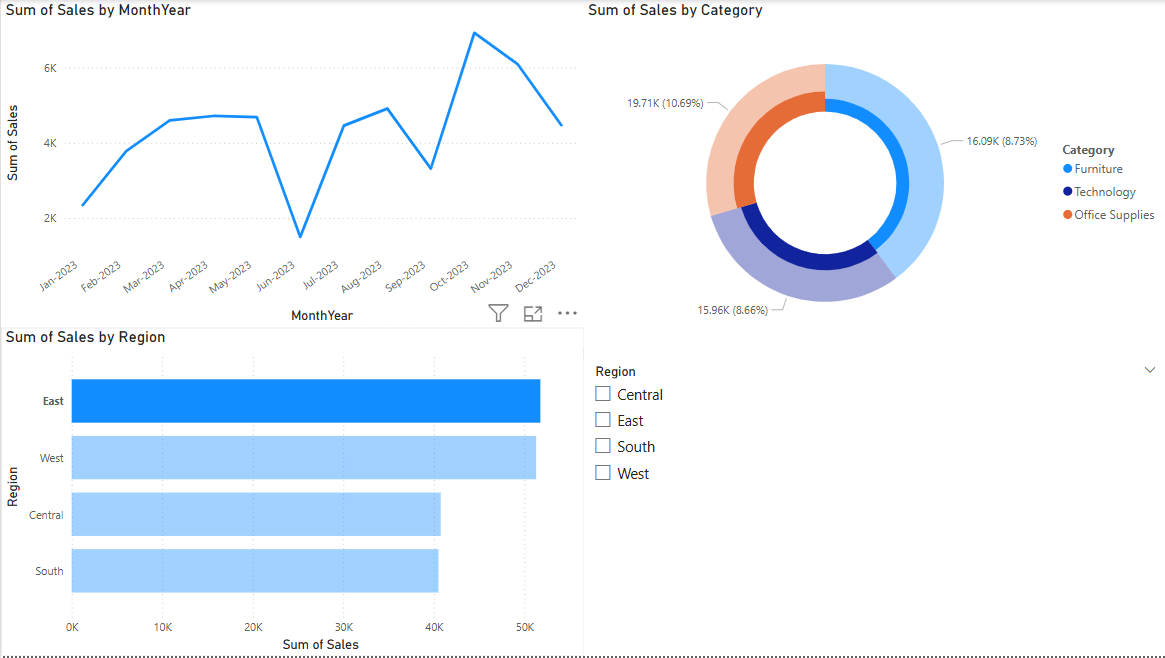

What the dashboard file says about the page in this screenshot:
{"tool":"powerbi","page":{"name":"Page 1","canvas":[1280,720],"ordinal":0},"visuals":[{"type":"lineChart","fields":{"Category":["Superstore_Sales.MonthYear"],"Y":["Sum(Superstore_Sales.Sales)"]},"box":[0,0,639.5,359.5],"z":0},{"type":"clusteredBarChart","fields":{"Category":["Superstore_Sales.Region"],"Y":["Sum(Superstore_Sales.Sales)"]},"box":[0,359.5,639.5,360.9],"z":1000},{"type":"donutChart","fields":{"Category":["Superstore_Sales.Category"],"Y":["Sum(Superstore_Sales.Sales)"]},"box":[639.5,0,640.8,382.8],"z":2000},{"type":"slicer","fields":{"Values":["Superstore_Sales.Region"]},"box":[639.5,393.8,640.8,326.6],"z":2001}]}

Visuals, with their boxes in screenshot pixels (x1, y1, x2, y2), scaled from the page's 1280x720 canvas onto the 1165x658 screenshot:
lineChart - Superstore_Sales.MonthYear x Sum(Superstore_Sales.Sales): [left=0, top=0, right=582, bottom=329]
clusteredBarChart - Superstore_Sales.Region x Sum(Superstore_Sales.Sales): [left=0, top=329, right=582, bottom=657]
donutChart - Superstore_Sales.Category x Sum(Superstore_Sales.Sales): [left=582, top=0, right=1164, bottom=350]
slicer - Superstore_Sales.Region: [left=582, top=360, right=1164, bottom=657]
